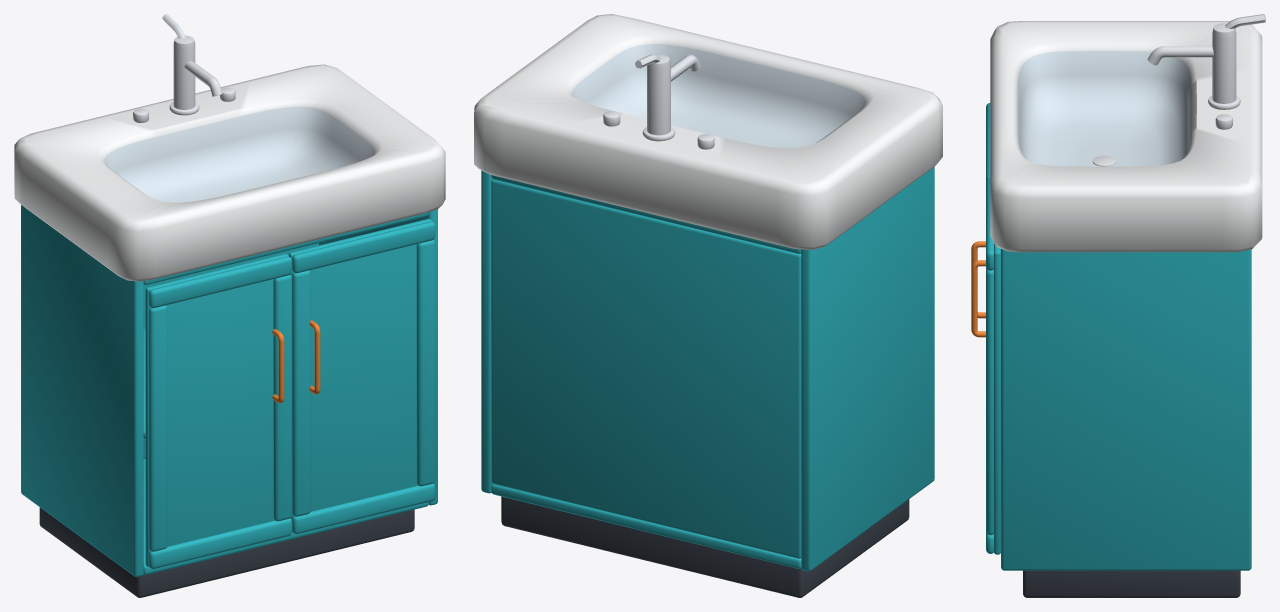
Rendered from gabinete_pia_duas_portas_turquesa.glb.
3 views of the same model, side by side, from view 1: azimuth 30°, elevation 25°; view 2: azimuth 150°, elevation 25°; view 3: azimuth 270°, elevation 25° (orthographic). The views are drawn at different scales.
Visible parts, largest first — view 1: gabinete_pia_duas_portas_turquesa, porta_1, porta_2; view 2: gabinete_pia_duas_portas_turquesa; view 3: gabinete_pia_duas_portas_turquesa, porta_2, porta_1.
Boxes of the visible parts, x1,y1,x2,y2 form: gabinete_pia_duas_portas_turquesa: (14, 14, 445, 597); porta_1: (145, 253, 291, 568); porta_2: (288, 218, 435, 533); gabinete_pia_duas_portas_turquesa: (474, 14, 942, 597); gabinete_pia_duas_portas_turquesa: (990, 14, 1265, 597); porta_2: (971, 179, 1000, 554); porta_1: (971, 103, 990, 318).
Size of the model in its own units: 0.75 by 1.04 by 0.5409.
Materials: 1 (1 with a texture image).
